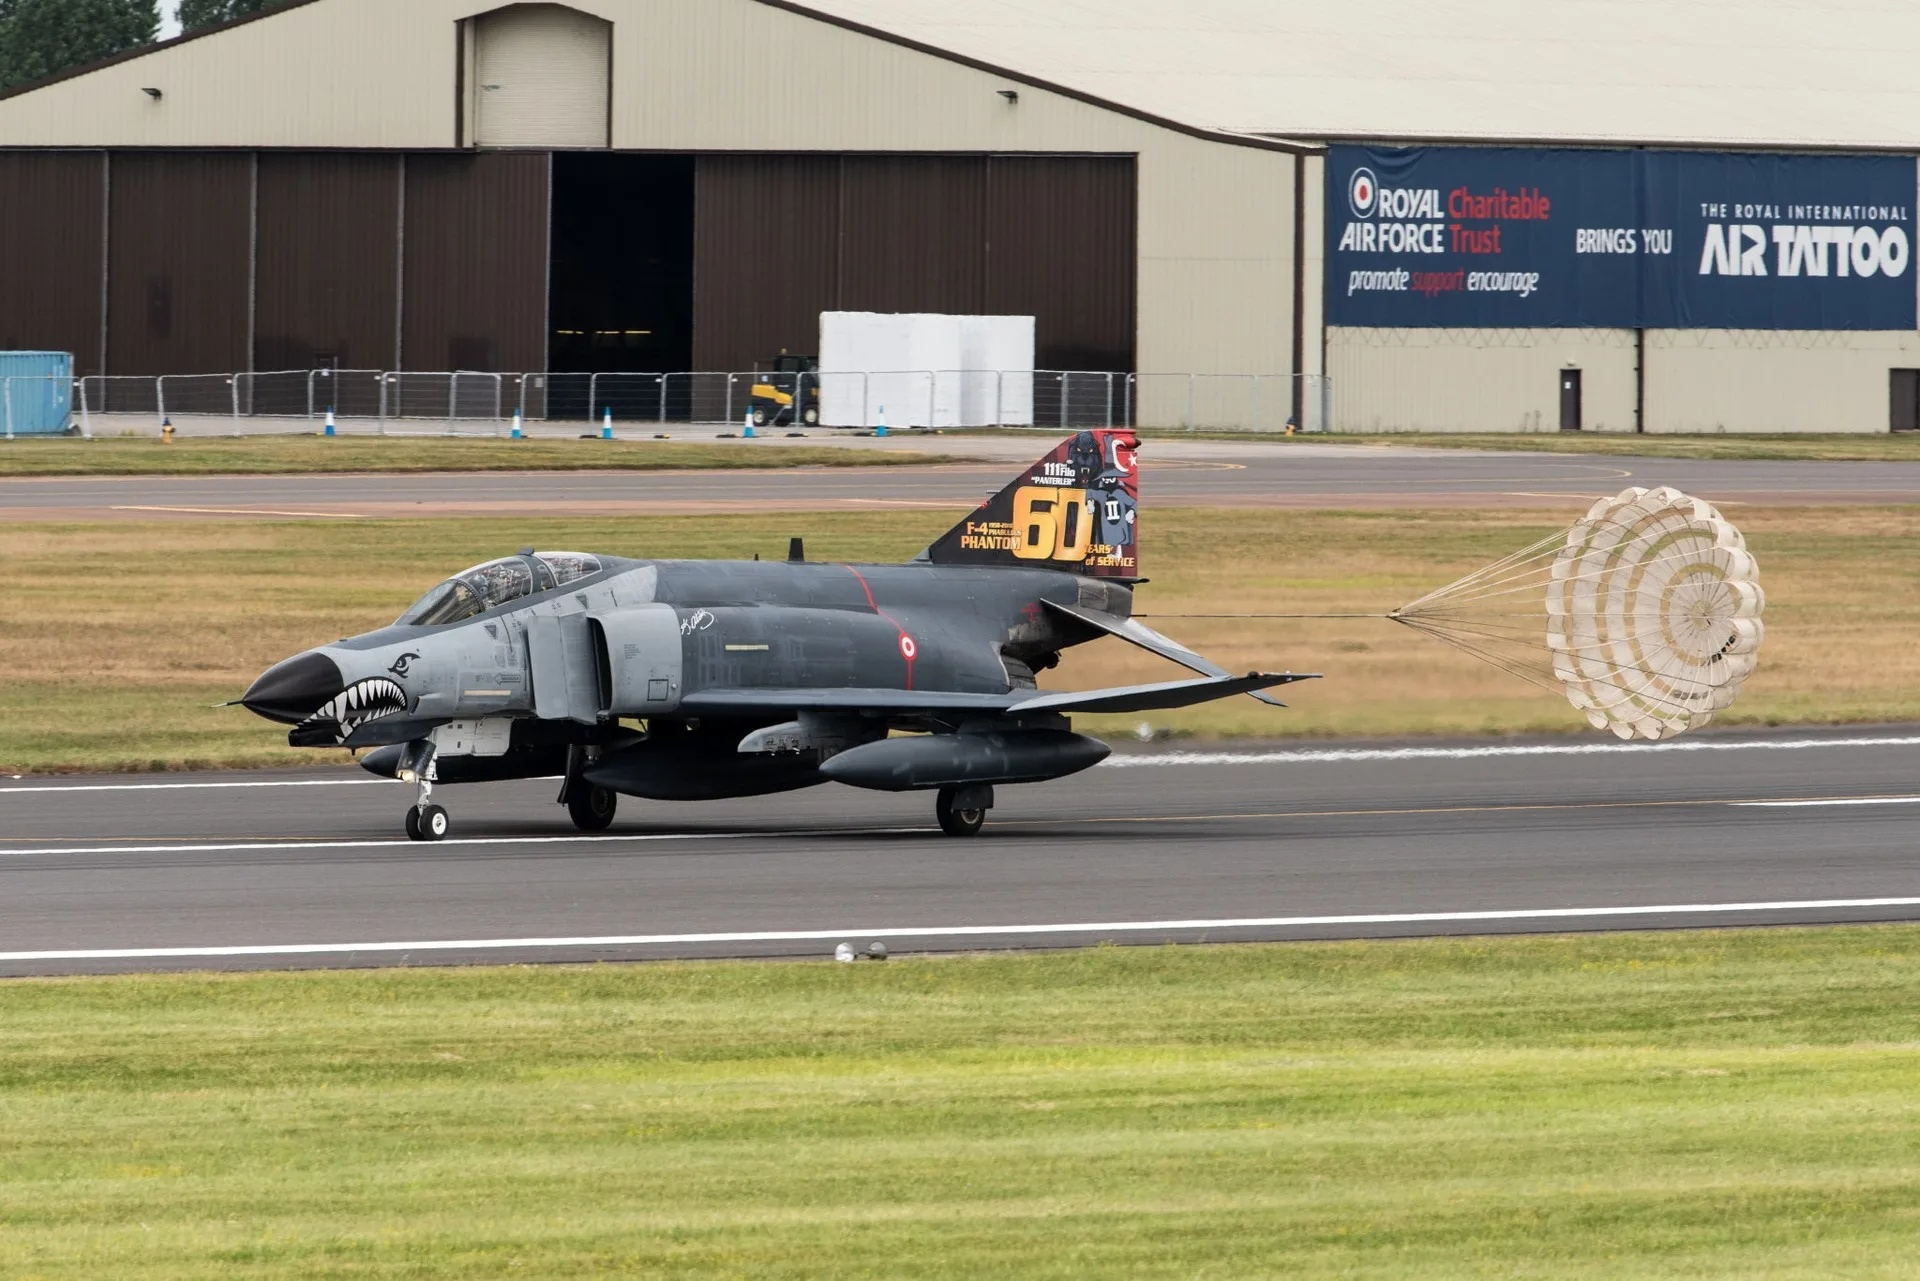F4: (209, 426, 1325, 842)
